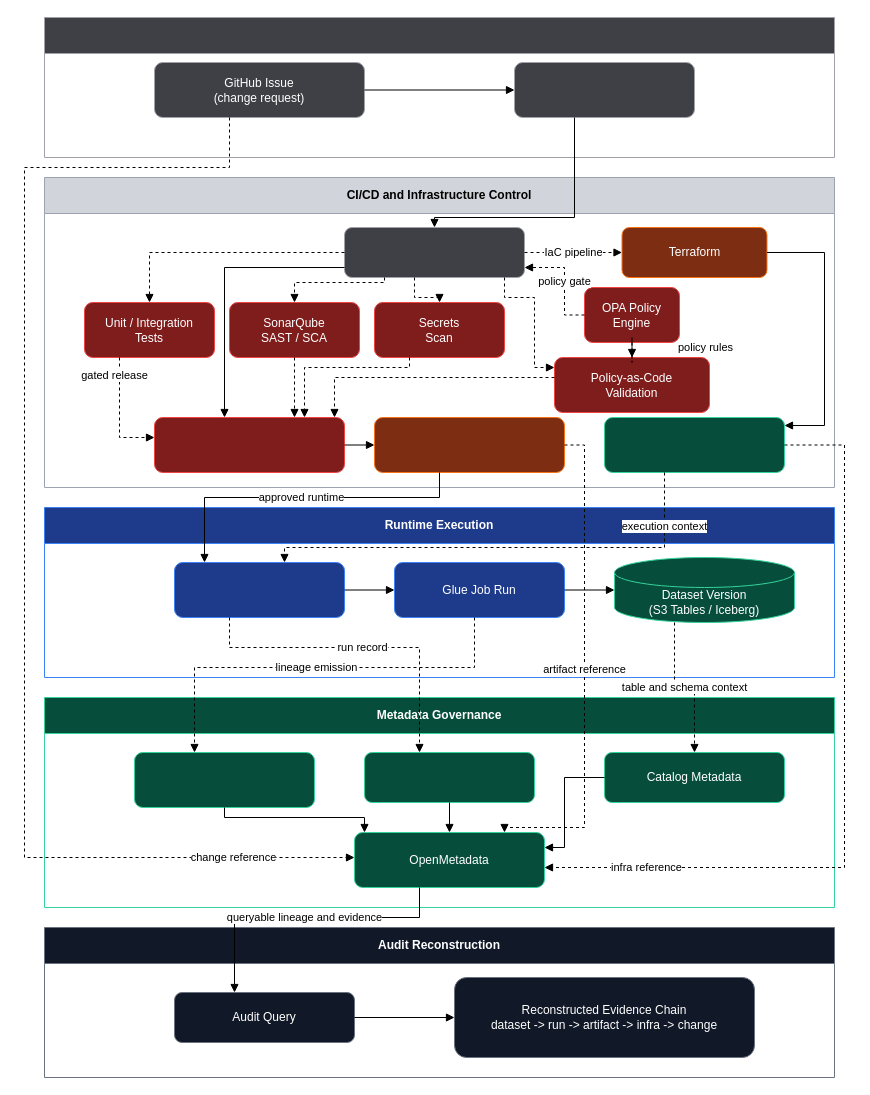
The diagram is 870 pixels wide and 1095 high, and some of its shapes have lost their labels. The shapes that lost their labels are listed below. From the top down, each one's box as (x1, y1, x2, y2) in pixels, then its label:
(44, 16, 834, 158): Change Management
(514, 62, 694, 118): Pull Request + Approval Gate
(344, 226, 524, 278): GitHub Actions
(154, 416, 344, 472): GitHub Native Attestation
(374, 416, 564, 472): Approved Artifact Version
(604, 416, 784, 472): Infrastructure State Version
(174, 562, 344, 618): MWAA Run
(134, 752, 314, 808): OpenLineage Events
(364, 752, 534, 802): Run Metadata
